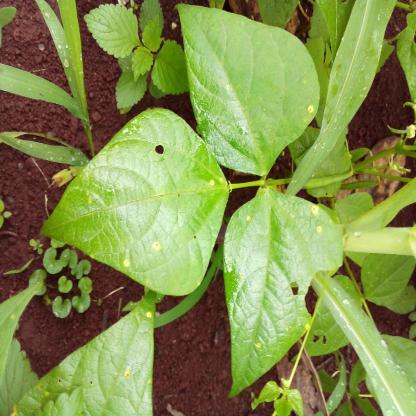Beans_Rust: (34, 107, 227, 296), (172, 3, 321, 176), (225, 194, 340, 398), (2, 290, 156, 416)
